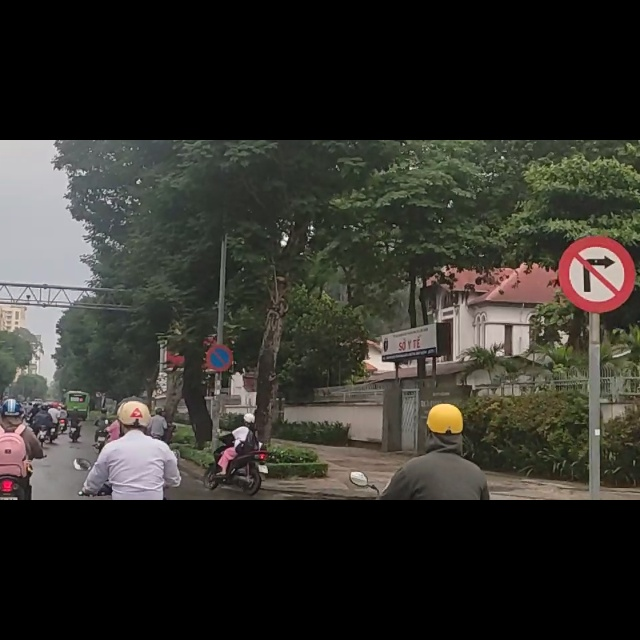bien_cam: (559, 171, 639, 308), (204, 363, 233, 412)
